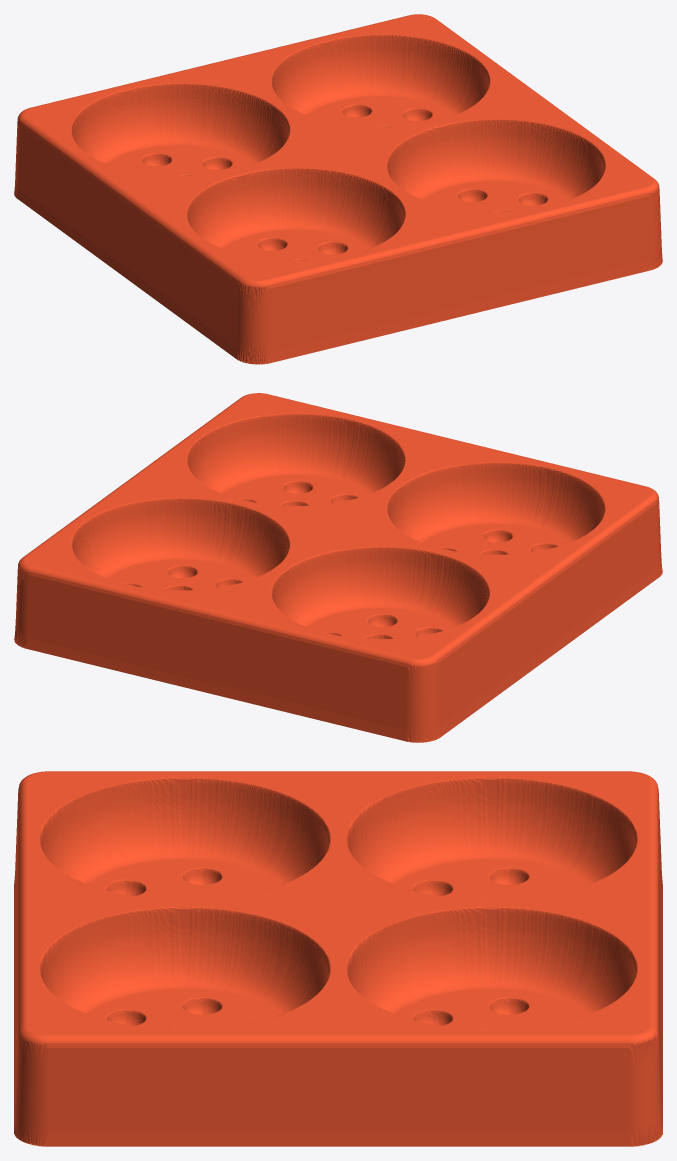
File: mold.glb
The picture shows the model from 3 angles, top to bottom: view 1: azimuth 30°, elevation 25°; view 2: azimuth 150°, elevation 25°; view 3: azimuth 270°, elevation 25°; orthographic projection. The views are drawn at different scales.
Visible parts, largest first — view 1: geometry_0; view 2: geometry_0; view 3: geometry_0.
Part boxes in pixels (x1,y1,x2,y2): geometry_0: (14, 14, 662, 364); geometry_0: (14, 393, 662, 742); geometry_0: (14, 771, 662, 1146).
Size of the model in its own units: 0.1721 by 0.031 by 0.1721.
